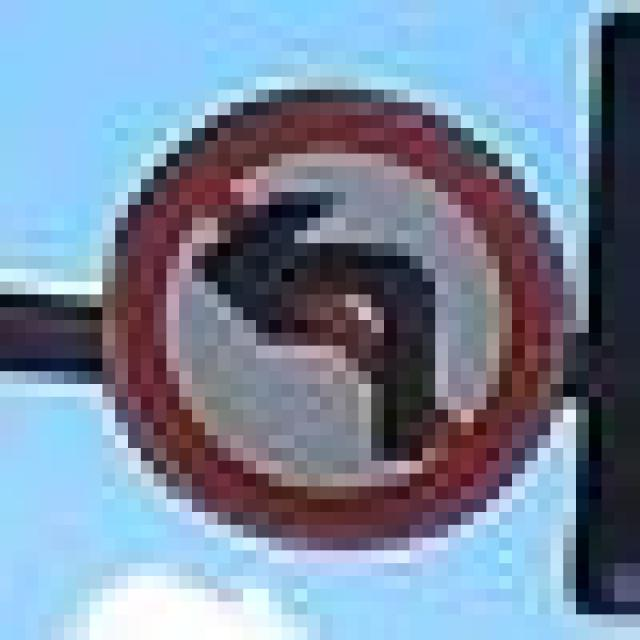left turn prohibited: (109, 85, 570, 547)
